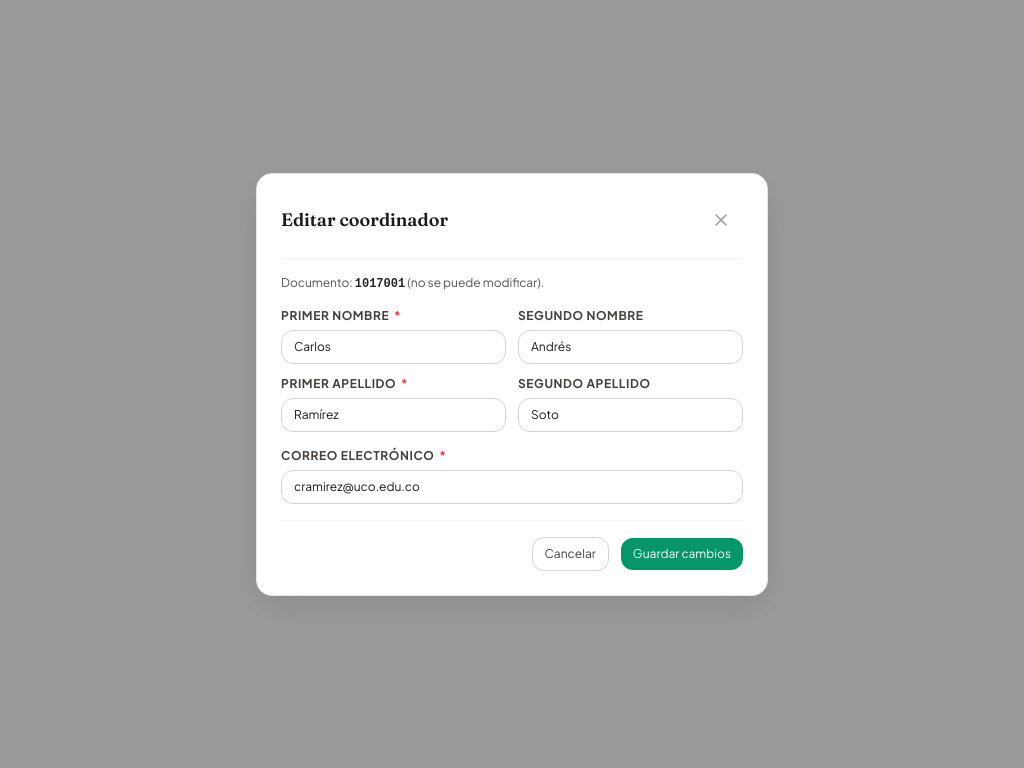
Test case: DeanCoordinadorEditModalComponent (HU121) › valida al escribir: apellido en blanco deshabilita guardar
This screenshot has width=1024, height=768.
Clear the field below "Primer apellido" at x=394, y=414, box [281,398,506,432]
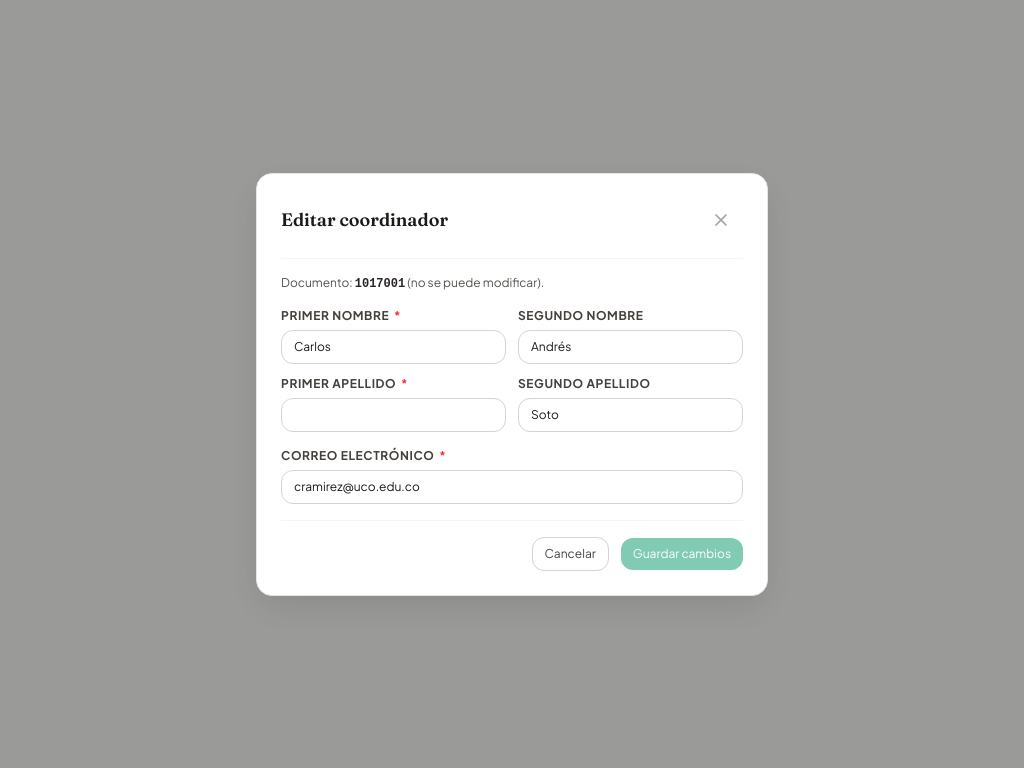
Check: the submit button is disabled, box [621,538,743,570]
